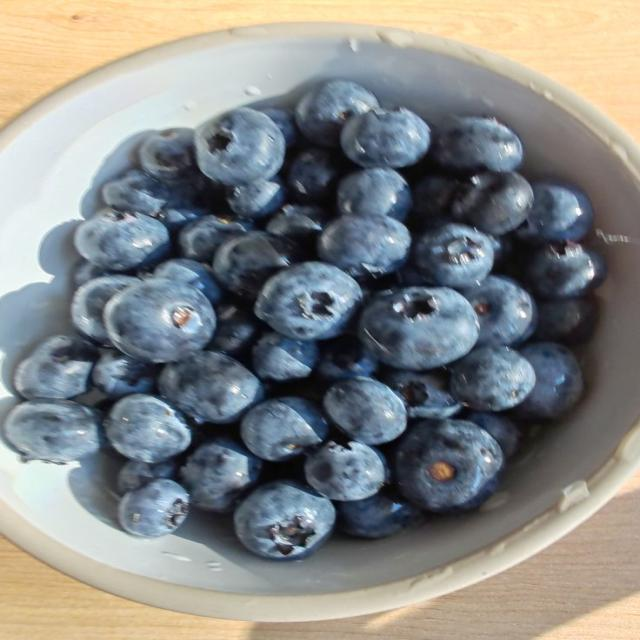blueberry: (395, 420, 503, 512), (360, 288, 479, 369), (104, 277, 215, 362), (255, 262, 361, 339), (234, 481, 335, 560), (159, 351, 262, 423), (196, 107, 285, 185), (213, 231, 302, 299), (4, 400, 100, 463), (180, 438, 261, 512), (105, 394, 191, 463), (75, 210, 170, 271), (318, 215, 411, 277), (240, 397, 328, 461), (296, 79, 379, 146), (340, 107, 430, 168), (451, 346, 535, 411), (324, 378, 406, 444), (14, 336, 98, 399), (461, 276, 536, 345), (452, 172, 533, 235), (518, 342, 584, 419), (430, 117, 522, 172), (414, 224, 493, 288), (71, 275, 139, 346), (305, 442, 387, 500), (525, 242, 606, 299), (518, 181, 593, 242), (118, 479, 189, 536), (338, 168, 412, 220), (384, 370, 462, 419), (337, 492, 419, 538), (178, 215, 247, 262), (93, 351, 157, 399), (154, 259, 222, 304), (253, 333, 318, 380), (102, 169, 168, 215), (139, 128, 195, 182), (412, 175, 466, 230), (534, 298, 598, 344), (287, 148, 339, 203), (317, 335, 378, 380), (208, 303, 259, 356), (266, 205, 328, 247), (465, 412, 521, 458), (227, 177, 286, 218), (117, 460, 177, 495), (257, 107, 299, 148), (155, 203, 209, 233), (73, 259, 108, 288), (487, 235, 513, 270), (394, 263, 427, 287)
